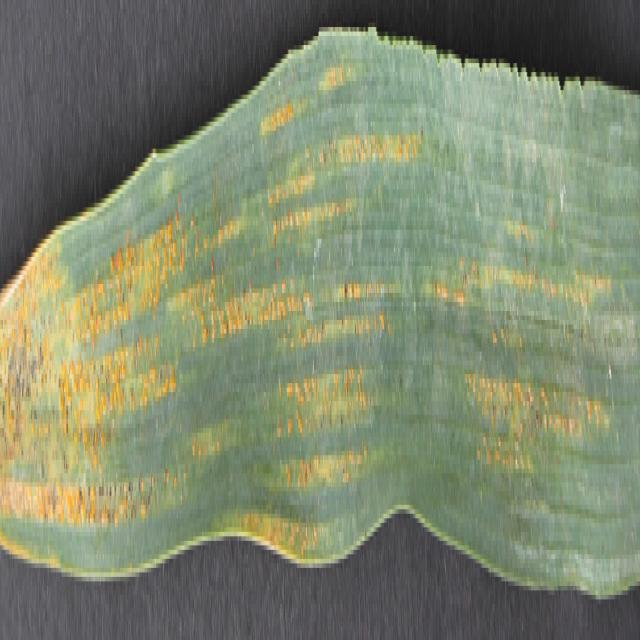leaf rust: (1, 4, 430, 564), (433, 194, 616, 500)
